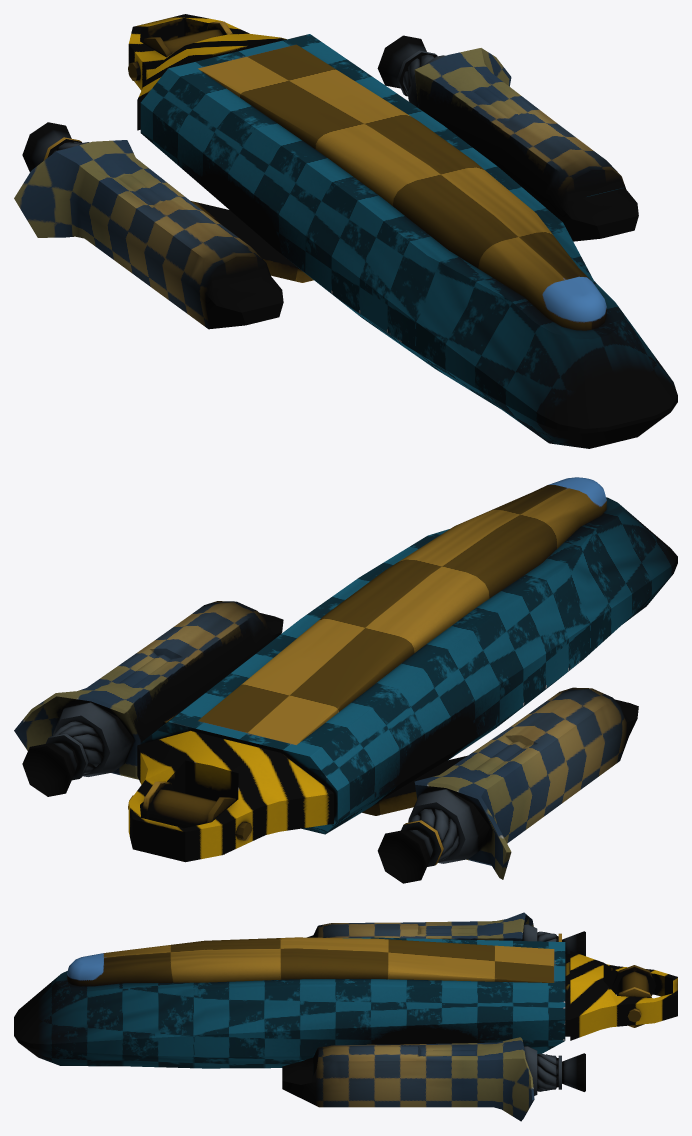
The model's file is Ship.glb.
The picture shows the model from 3 angles, top to bottom: view 1: azimuth 30°, elevation 25°; view 2: azimuth 150°, elevation 25°; view 3: azimuth 270°, elevation 25°; orthographic projection. The views are drawn at different scales.
Visible parts, largest first — view 1: Ship; view 2: Ship; view 3: Ship.
Boxes of the visible parts, x1=… form: Ship: x1=14, y1=14, x2=677, y2=448; Ship: x1=14, y1=477, x2=677, y2=883; Ship: x1=14, y1=912, x2=677, y2=1121.
Size of the model in its own units: 3.93 by 1.08 by 6.45.
Materials: 1 (1 with a texture image).
